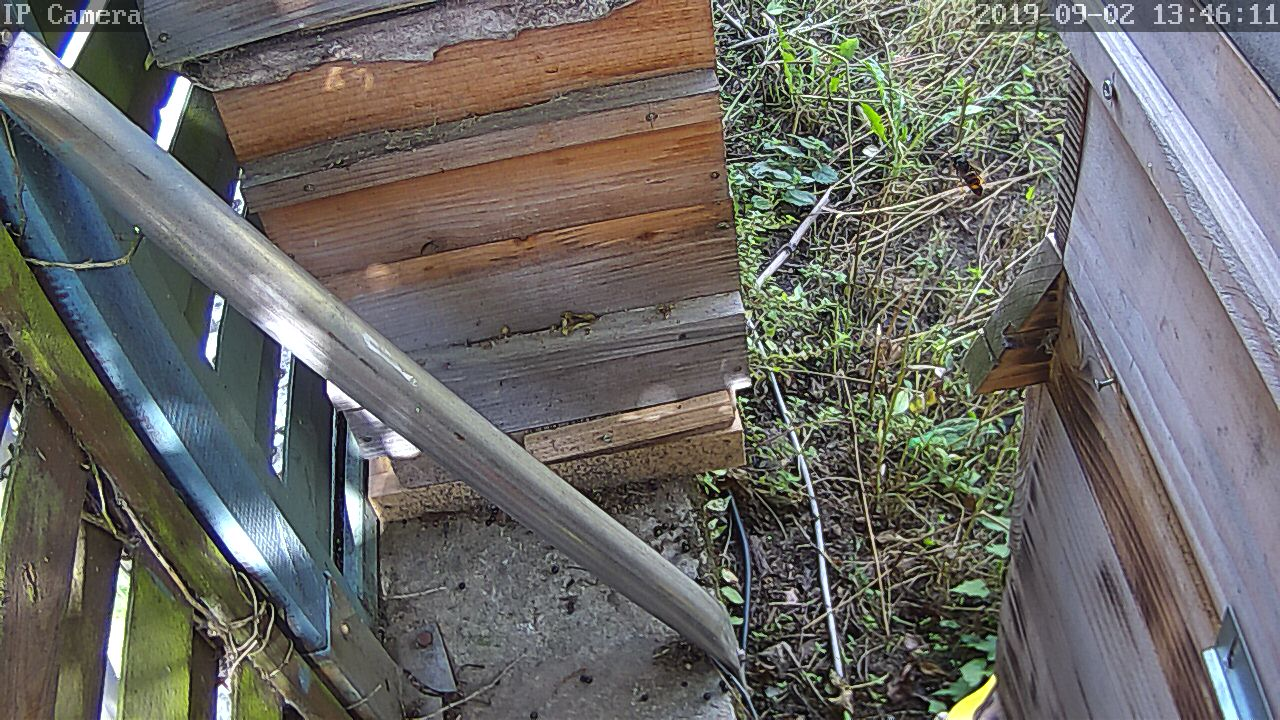hornet: (938, 143, 994, 200)
